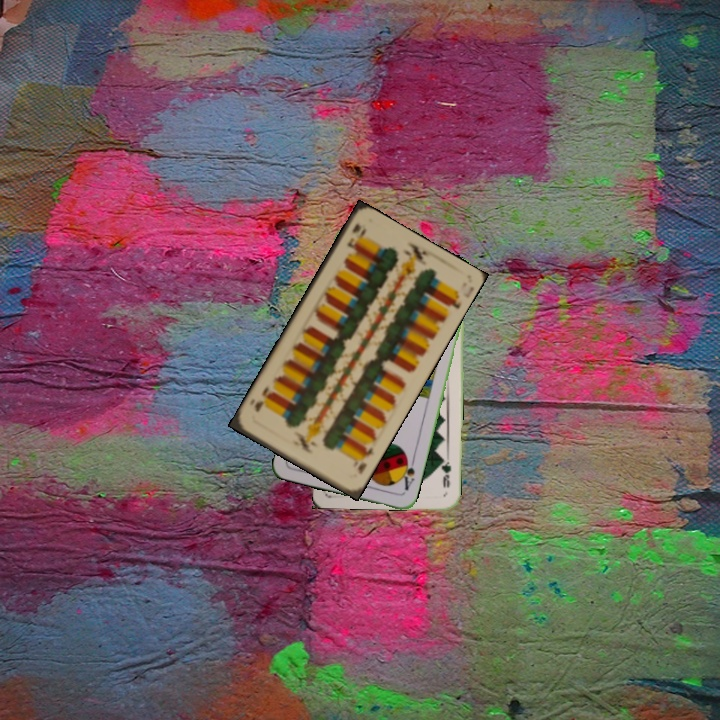E10: (349, 442, 377, 477), (343, 219, 369, 252)
G9: (437, 454, 453, 490)
SA: (396, 453, 418, 493)
